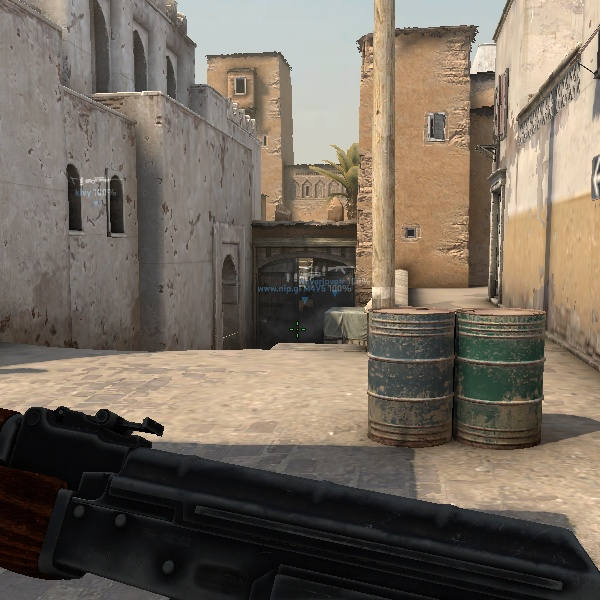ct_head: (302, 305, 310, 313)
